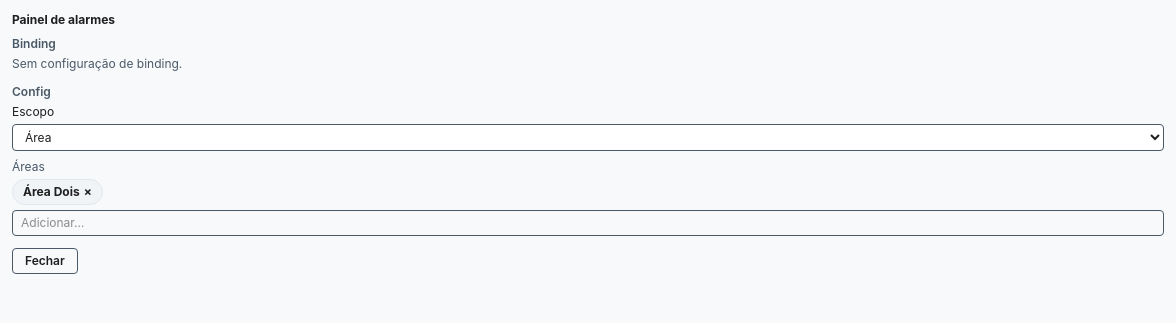
Test: WidgetConfigPopover — config por tipo (B2 T3) › alarms — multi-área (combobox + chips) › área já escolhida some das opções do combobox
The image size is (1176, 323).
Click the dropdown labelled "Áreas" at (588, 223), box [12, 210, 1164, 236]
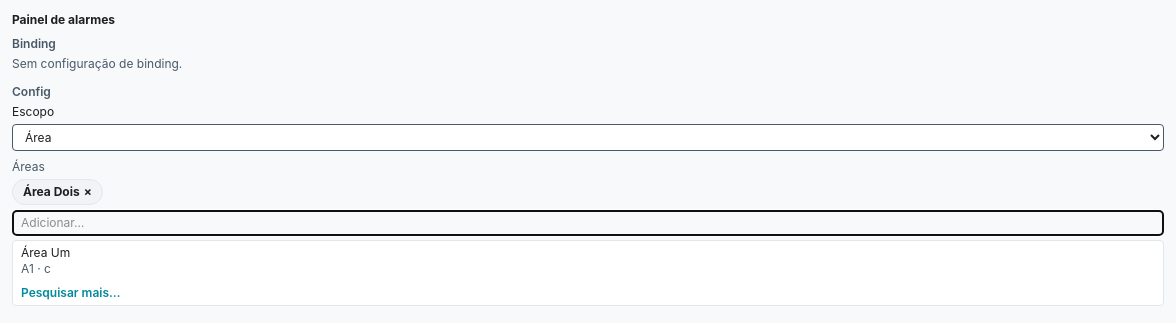
Expected: the text "Área Um" is shown, [21, 245, 70, 260]
